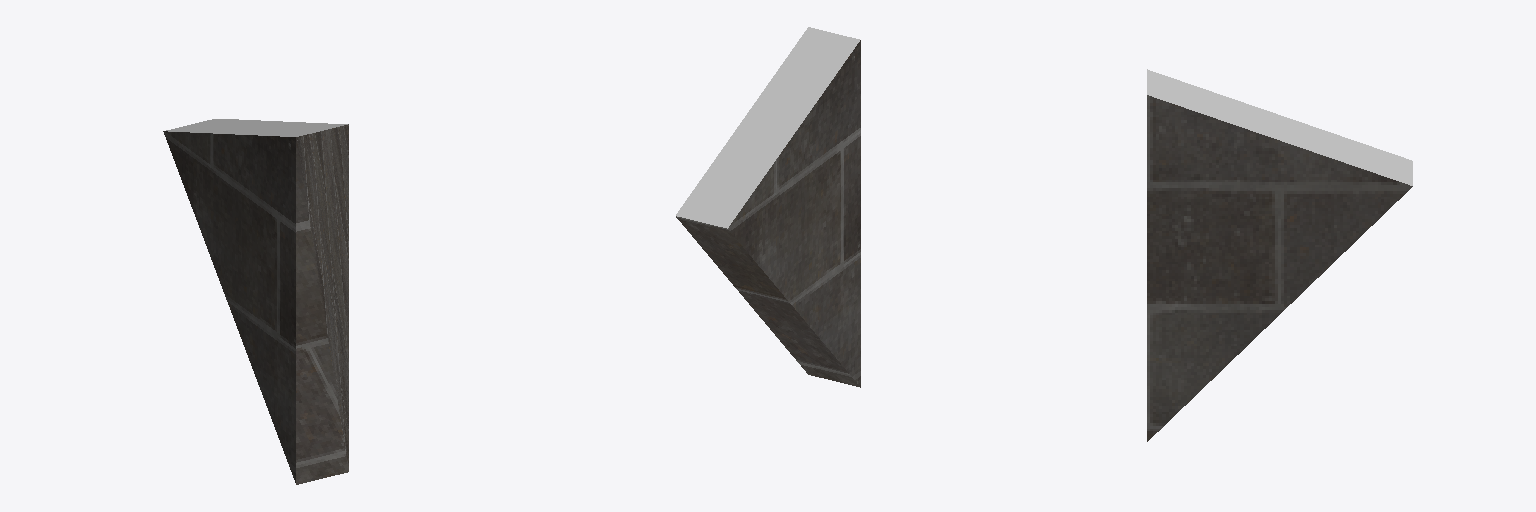
3 renders of one model, left to right at view 1: azimuth 30°, elevation 25°; view 2: azimuth 150°, elevation 25°; view 3: azimuth 270°, elevation 25°, orthographic.
Visible parts, largest first — view 1: Block3.001; view 2: Block3.001; view 3: Block3.001.
Part boxes in pixels (left/top/right/bottom): Block3.001: left=163, top=119, right=348, bottom=484; Block3.001: left=676, top=27, right=860, bottom=387; Block3.001: left=1147, top=69, right=1412, bottom=441.
Bounding box in the file's own units: 1.74 × 11.01 × 7.64.
Materials: 2 (1 with a texture image).